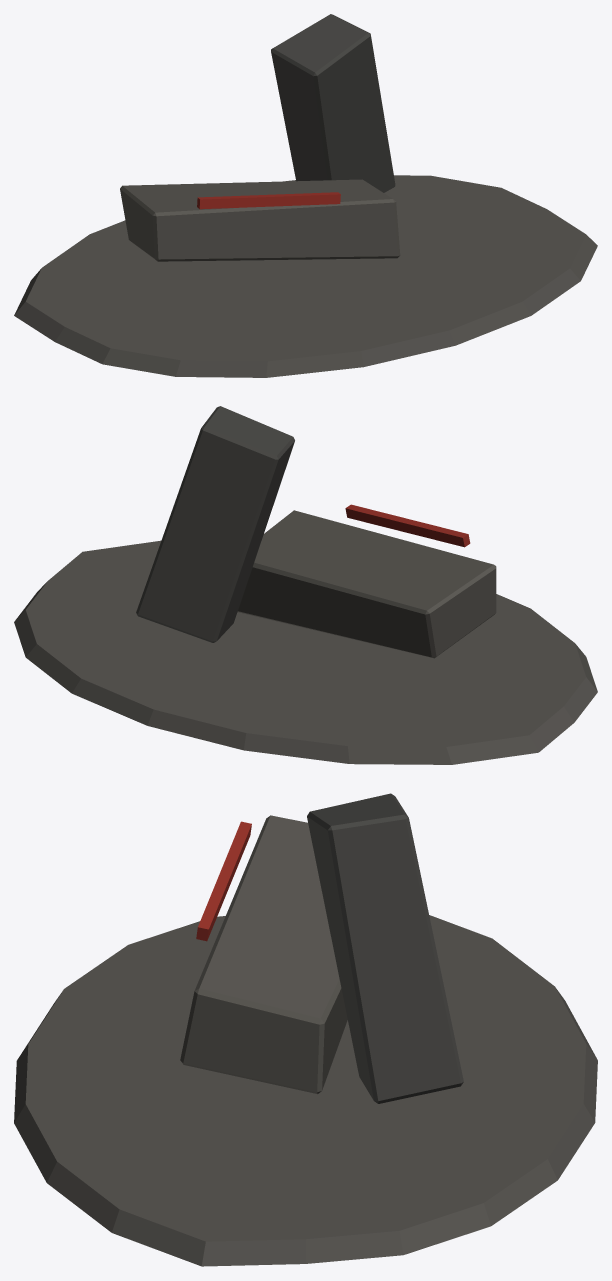
Rendered from SM_GIA_BloodAxeCairnSlabCluster_A01_LOD3.fbx.
3 views of the same model, one above another, from view 1: azimuth 30°, elevation 25°; view 2: azimuth 150°, elevation 25°; view 3: azimuth 270°, elevation 25° (orthographic). The views are drawn at different scales.
Parts seen in each view (by area): view 1: LOD3_AshMudBase_Simplified, LOD3_Stone_PrimaryFallenSlab, LOD3_Stone_RearUprightMass, LOD3_BloodAxePaint_BroadSlash; view 2: LOD3_AshMudBase_Simplified, LOD3_Stone_PrimaryFallenSlab, LOD3_Stone_RearUprightMass, LOD3_BloodAxePaint_BroadSlash; view 3: LOD3_AshMudBase_Simplified, LOD3_Stone_RearUprightMass, LOD3_Stone_PrimaryFallenSlab, LOD3_BloodAxePaint_BroadSlash.
Boxes of the visible parts, x1,y1,x2,y2 form: LOD3_AshMudBase_Simplified: [14, 175, 597, 377]; LOD3_Stone_PrimaryFallenSlab: [120, 179, 400, 261]; LOD3_Stone_RearUprightMass: [271, 14, 395, 192]; LOD3_BloodAxePaint_BroadSlash: [197, 192, 340, 209]; LOD3_AshMudBase_Simplified: [14, 540, 597, 764]; LOD3_Stone_PrimaryFallenSlab: [237, 510, 496, 658]; LOD3_Stone_RearUprightMass: [136, 406, 294, 642]; LOD3_BloodAxePaint_BroadSlash: [345, 504, 470, 547]; LOD3_AshMudBase_Simplified: [14, 915, 597, 1266]; LOD3_Stone_RearUprightMass: [307, 793, 463, 1103]; LOD3_Stone_PrimaryFallenSlab: [180, 815, 347, 1093]; LOD3_BloodAxePaint_BroadSlash: [196, 821, 251, 941].
Bounding box in the file's own units: 20681 × 29273 × 12435.
